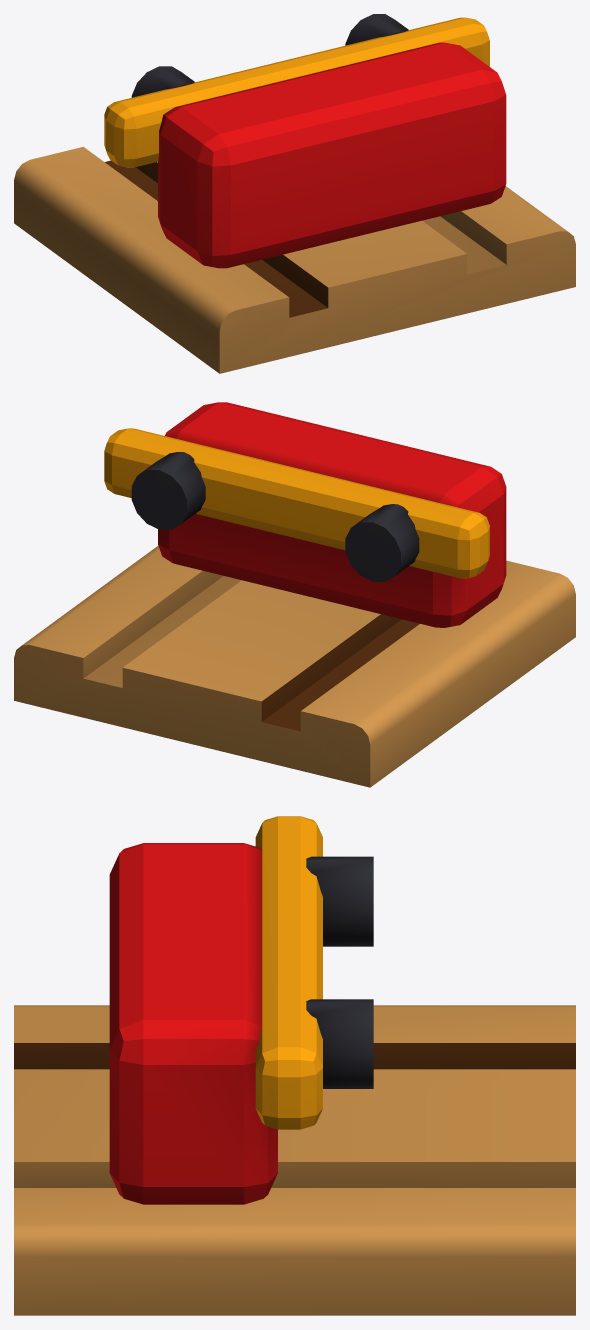
The model's file is EndPiece.fbx.
3 renders of one model, top to bottom at view 1: azimuth 30°, elevation 25°; view 2: azimuth 150°, elevation 25°; view 3: azimuth 270°, elevation 25°, orthographic. The views are drawn at different scales.
Visible parts, largest first — view 1: EndPiece; view 2: EndPiece; view 3: EndPiece.
Boxes of the visible parts, box(x1,y1,x2,y2) form: EndPiece: box(14, 14, 575, 373); EndPiece: box(14, 402, 575, 787); EndPiece: box(14, 816, 575, 1315).
Size of the model in its own units: 1.05 by 0.52 by 1.
